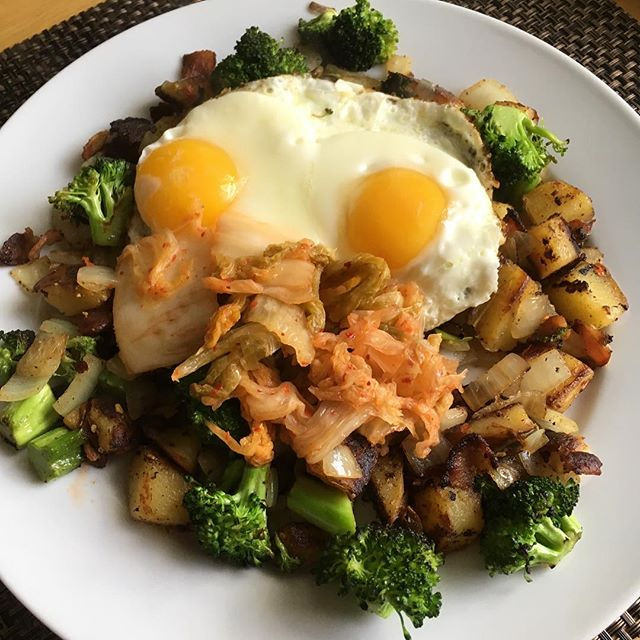fried egg: (310, 80, 507, 314), (121, 104, 325, 246)
